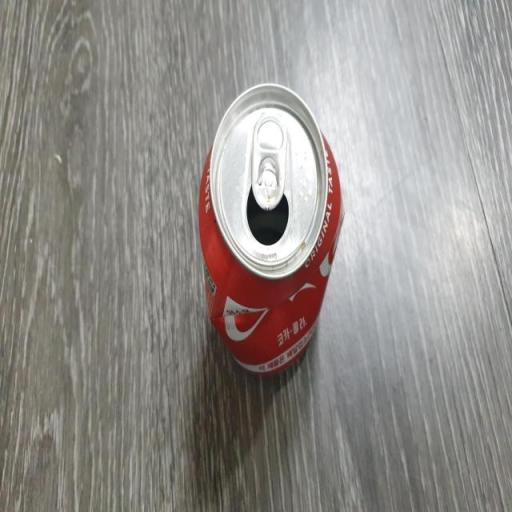metal: (183, 72, 356, 390)
